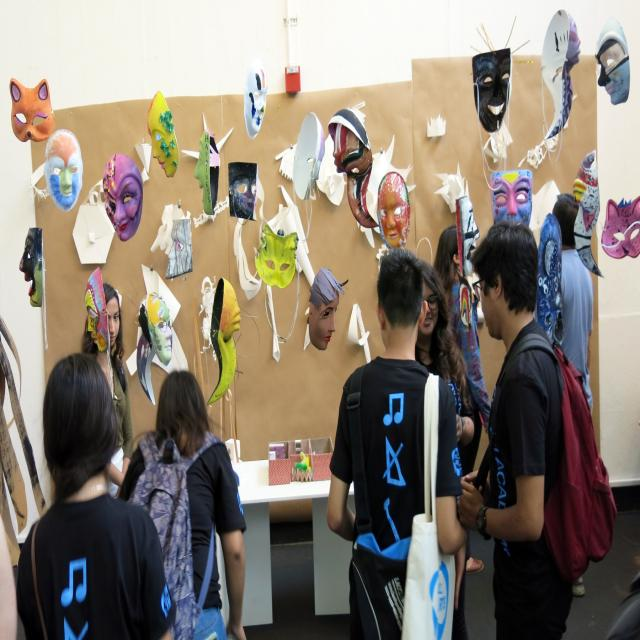body: (2, 10, 639, 356), (456, 217, 620, 640), (324, 242, 469, 640), (13, 348, 179, 639), (116, 371, 246, 640), (415, 259, 480, 640), (432, 222, 493, 578), (550, 190, 596, 599), (80, 282, 134, 500), (1, 513, 22, 640)
